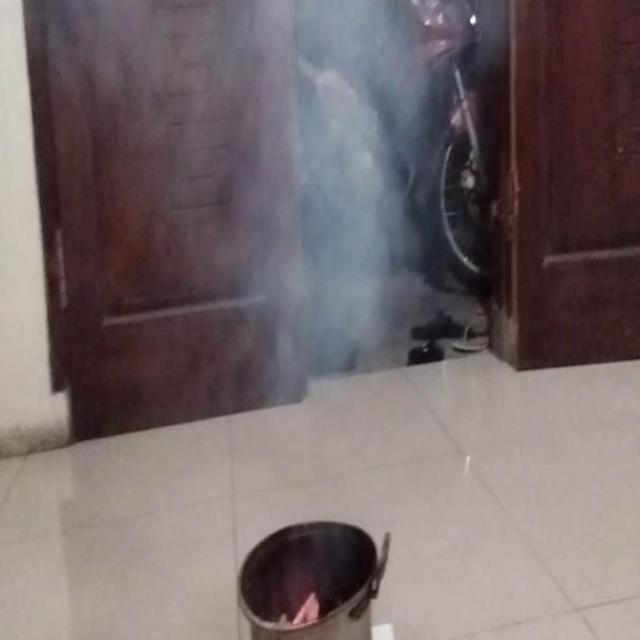fire: (154, 0, 424, 383)
